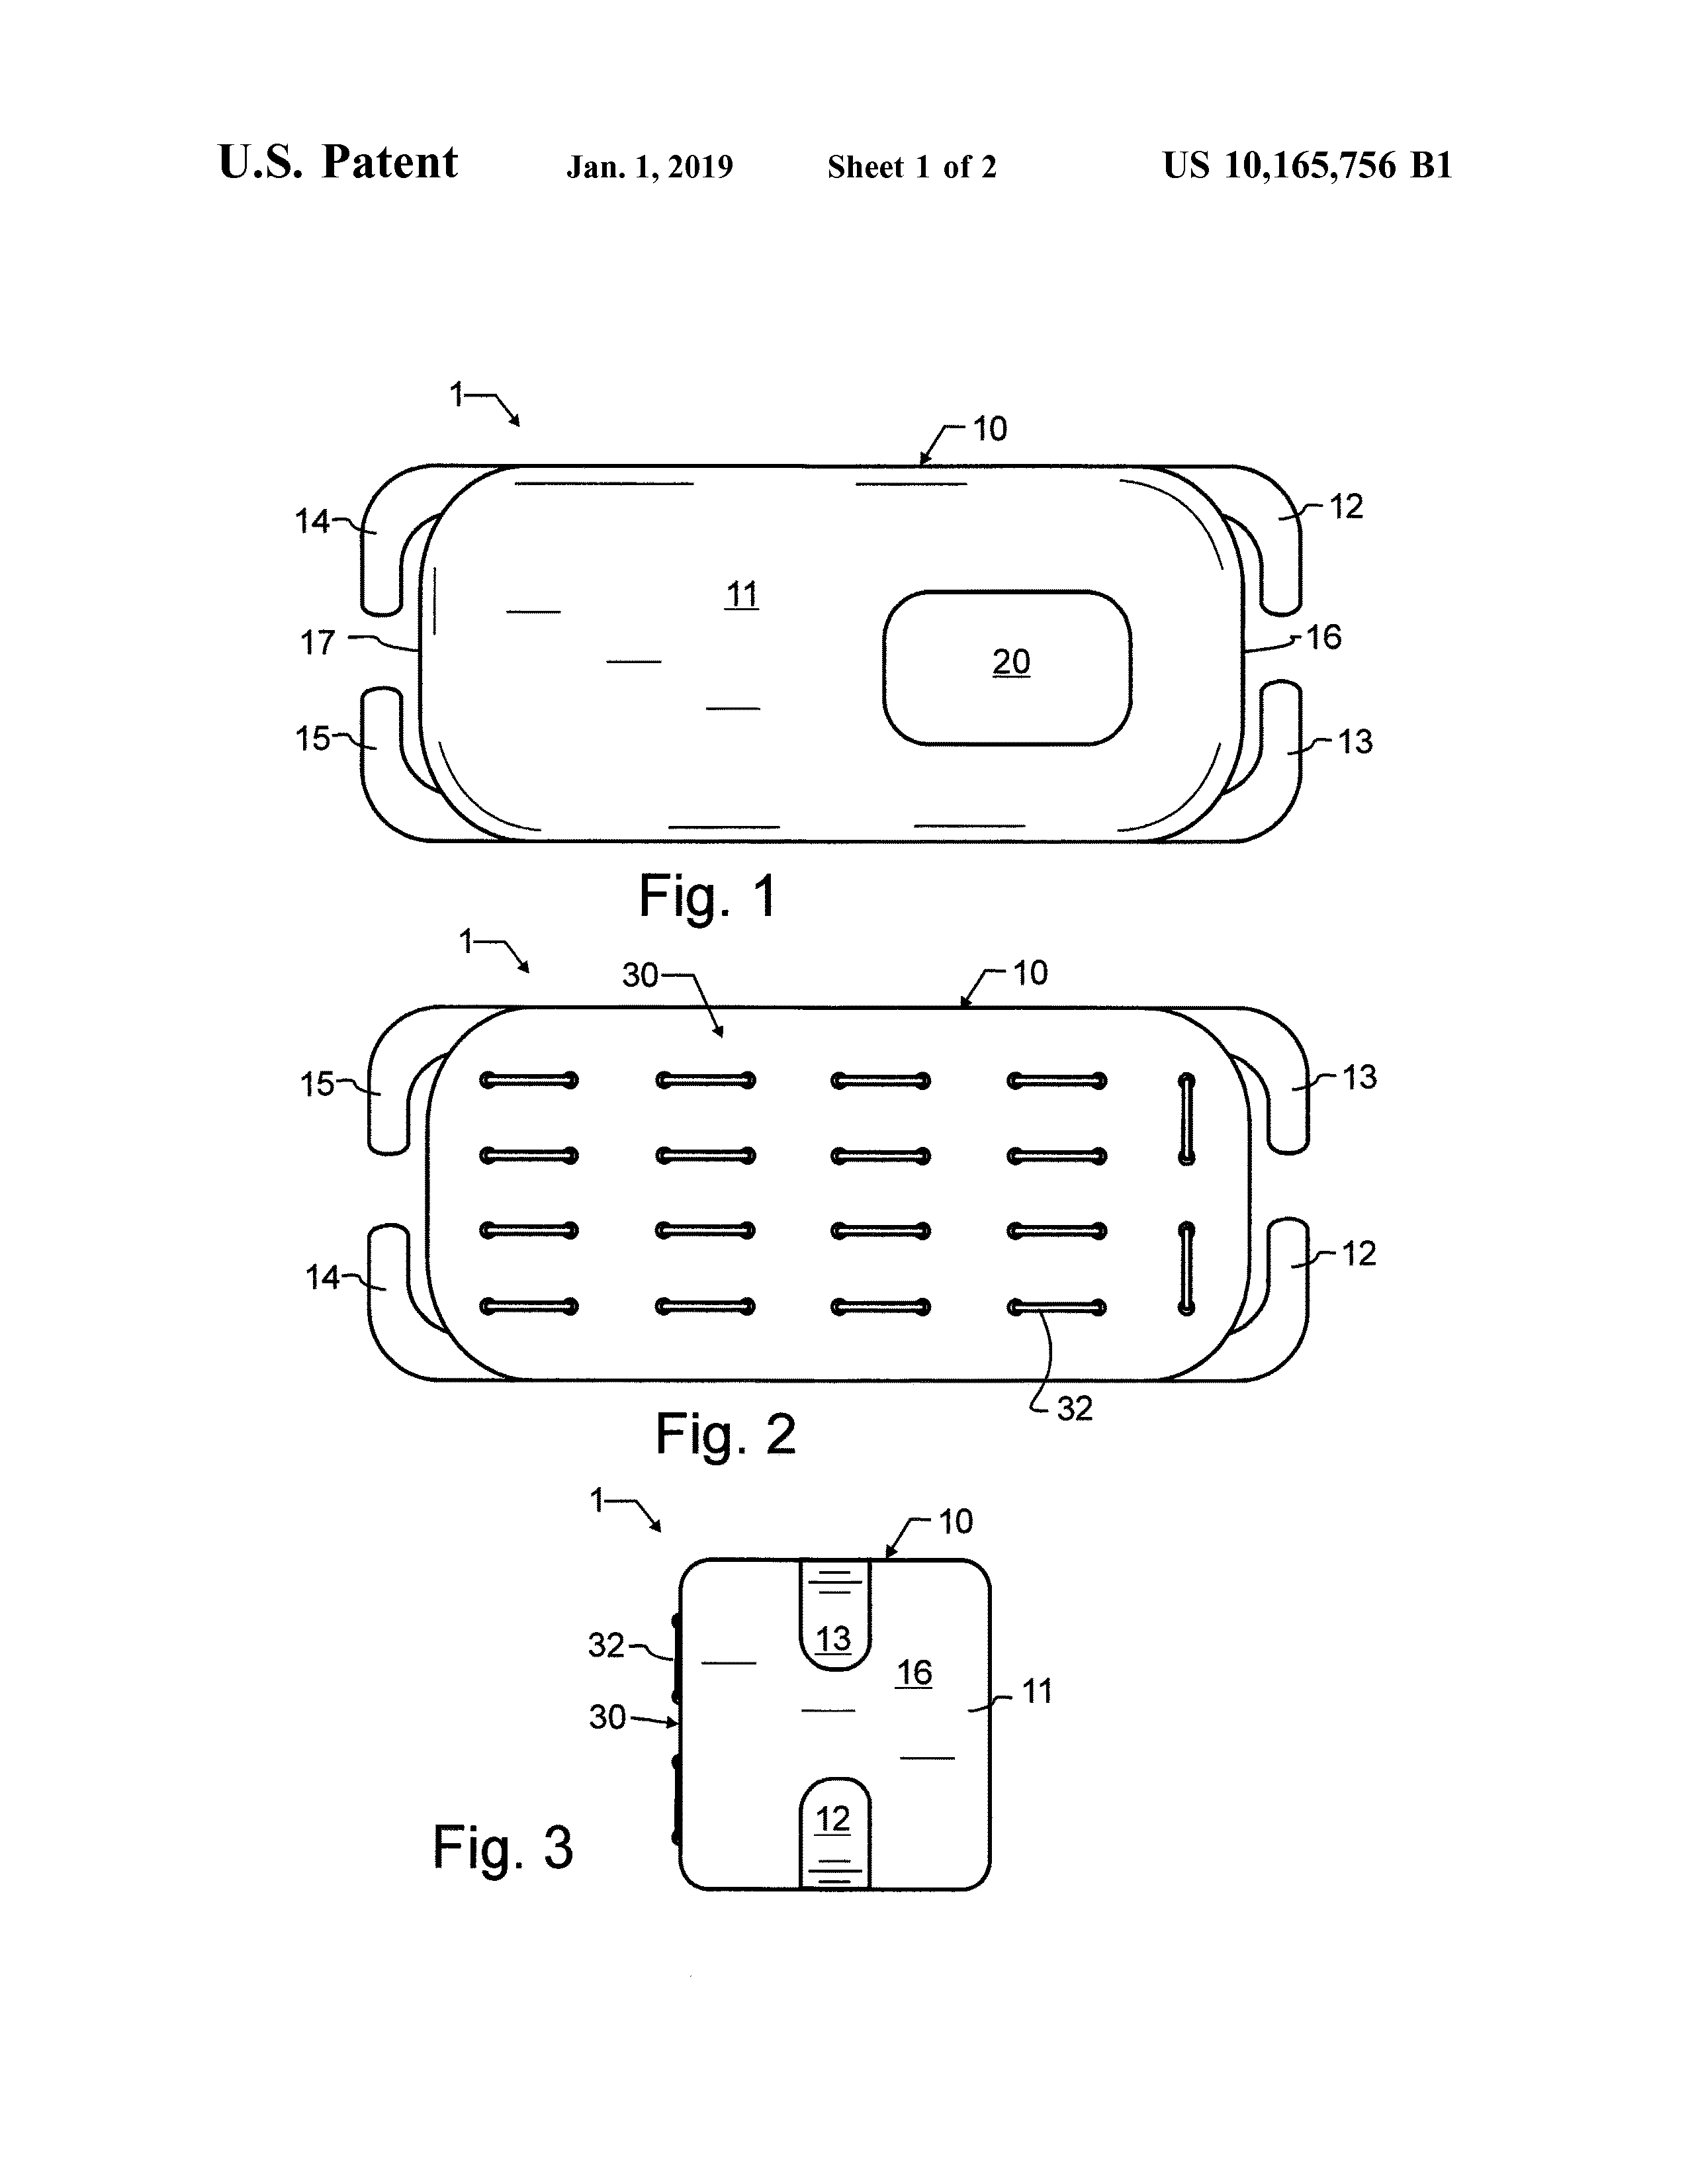patent image: (189, 256, 1466, 929), (275, 924, 1441, 1464), (421, 1473, 1127, 2019)
